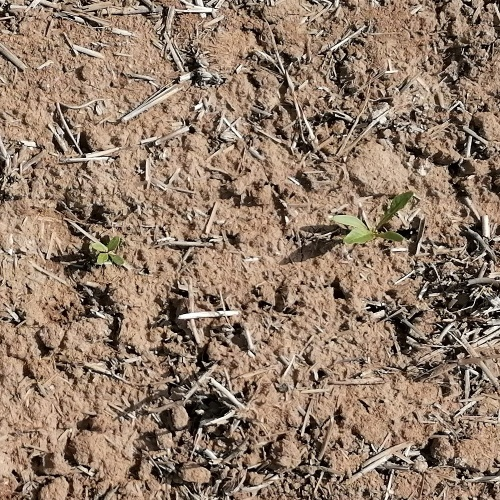beet: (331, 190, 414, 244), (91, 235, 123, 267)
